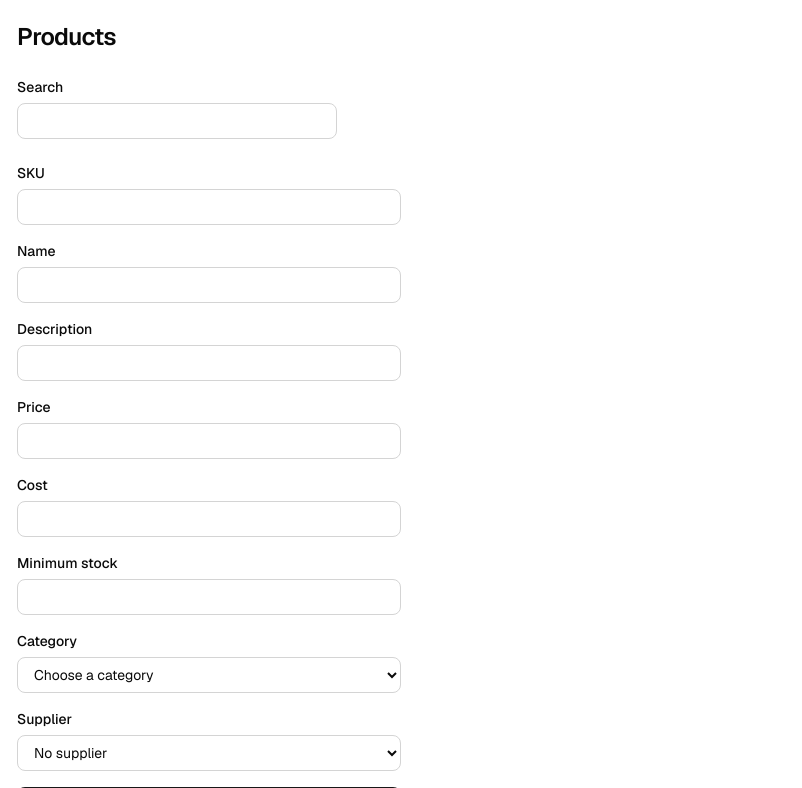
Test: products panel › creating a product posts the whole body and shows it in the list
Type "NOVO-1" into the field labelled "SKU" at {"x": 209, "y": 207}, box [17,189,401,225]
Type "Novo produto" into the field labelled "Name" at {"x": 209, "y": 285}, box [17,267,401,303]
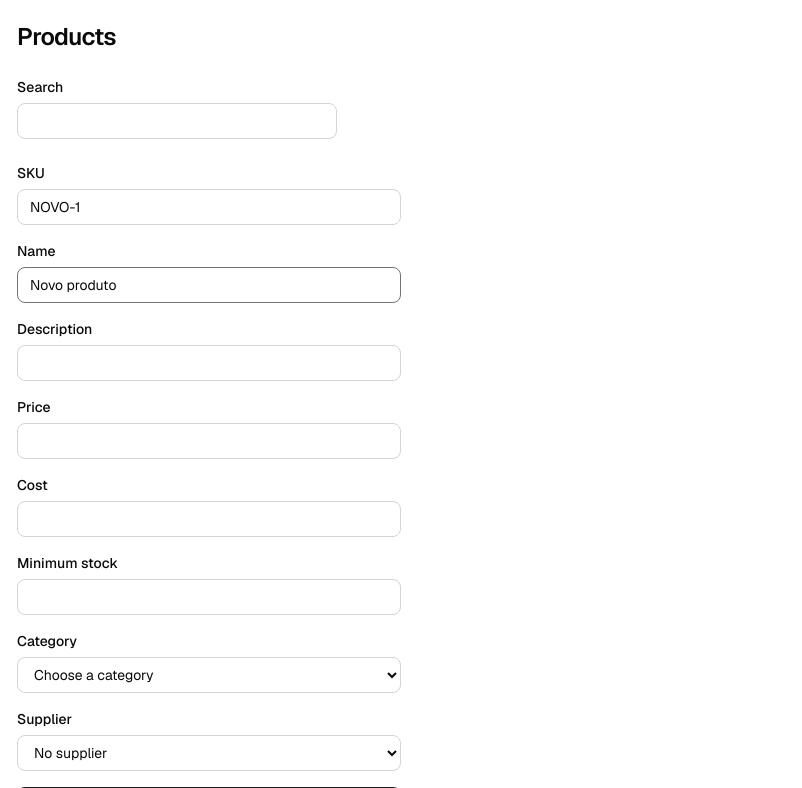
Type "9.90" into the number field labelled "Price" at {"x": 209, "y": 441}, box [17,423,401,459]
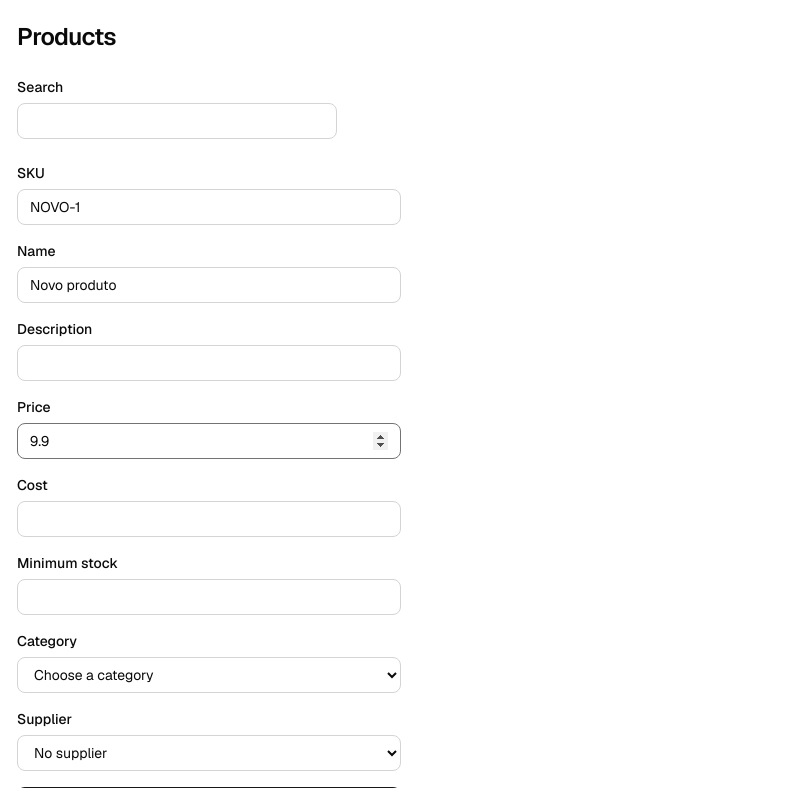
Type "5" into the number field labelled "Cost" at {"x": 209, "y": 519}, box [17,501,401,537]
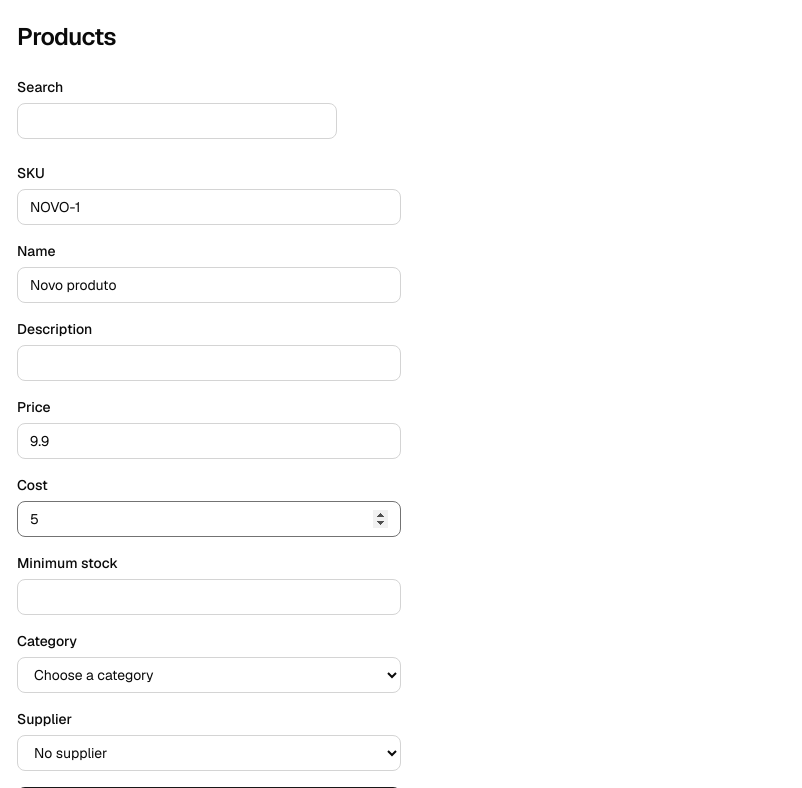
Type "2" into the number field labelled "Minimum stock" at {"x": 209, "y": 597}, box [17,579,401,615]
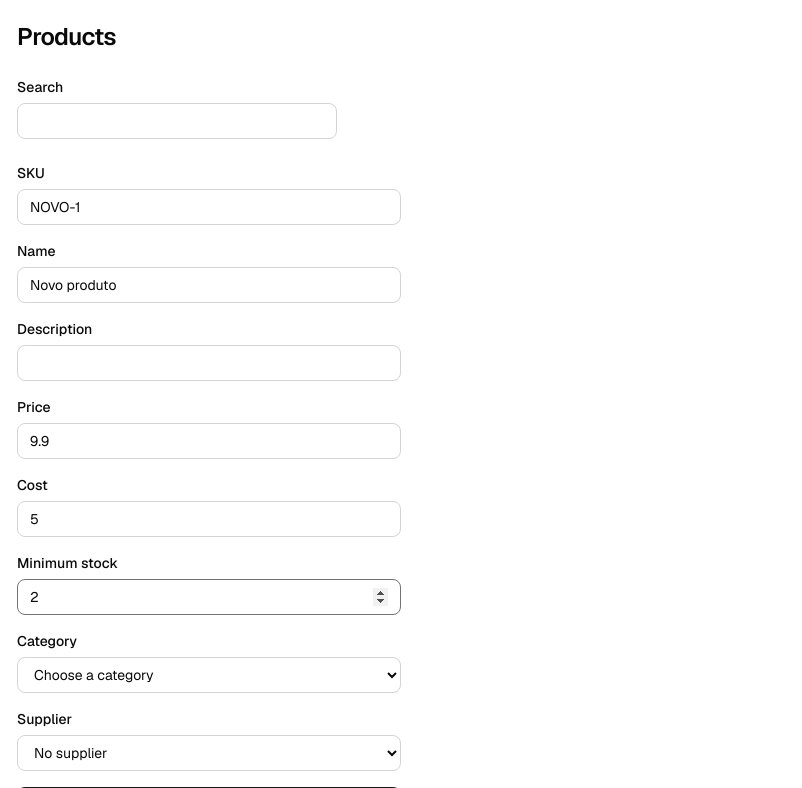
Select "Padaria" in the dropdown labelled "Category" at {"x": 209, "y": 675}, box [17,657,401,693]
(page scrolled)
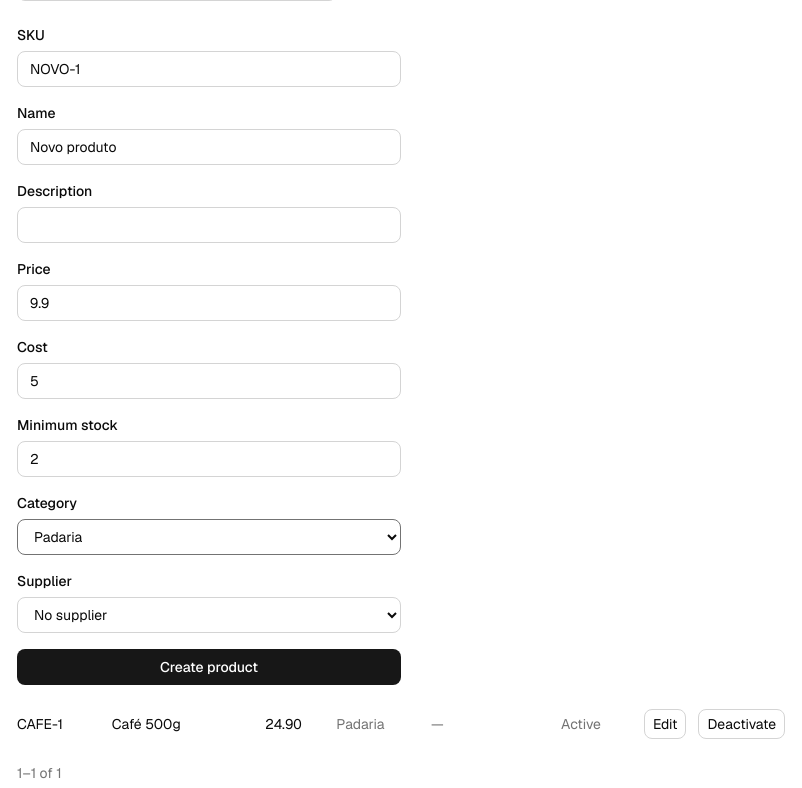
Click the button "Create product" at {"x": 209, "y": 667}, box [17,649,401,685]
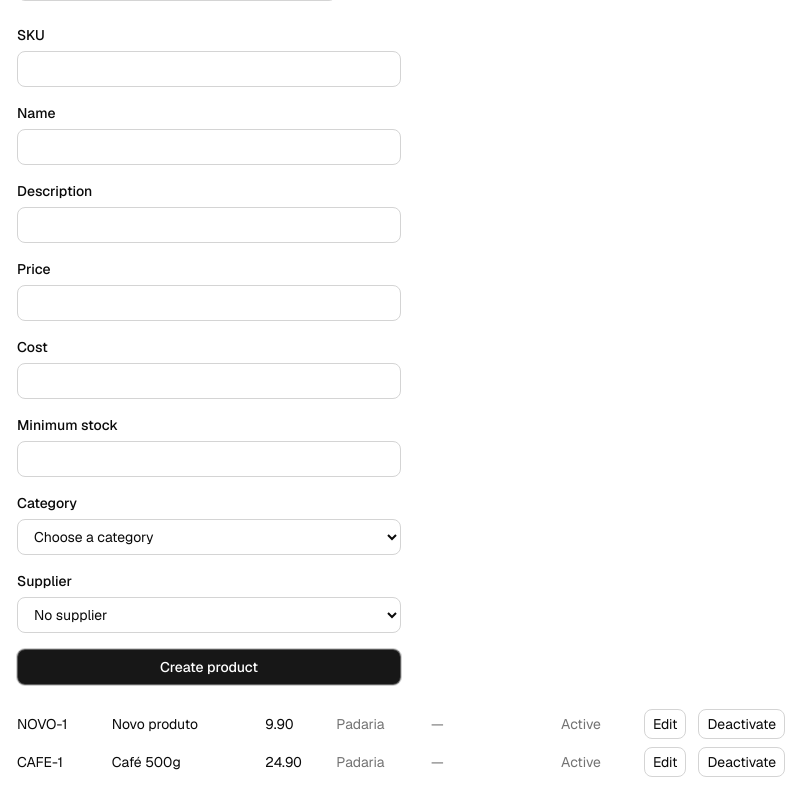
Expected: the text "Novo produto" is shown, [112,715,198,733]
